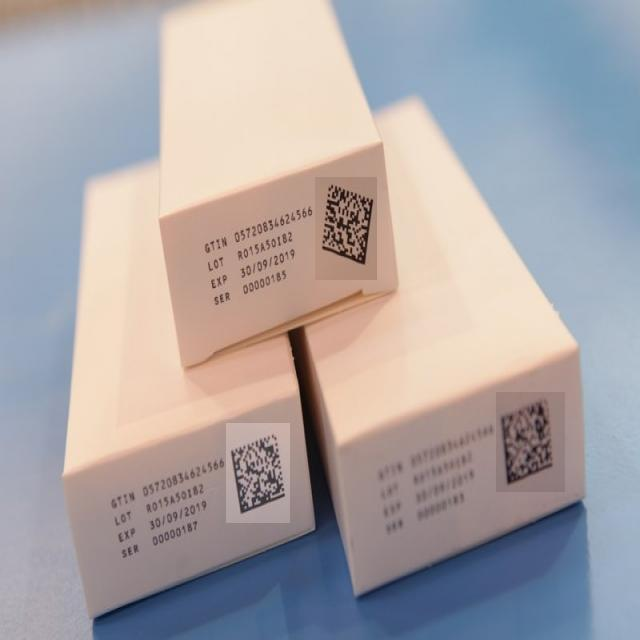DataMatrix: (496, 392, 565, 492), (226, 424, 290, 524), (315, 177, 377, 280)
